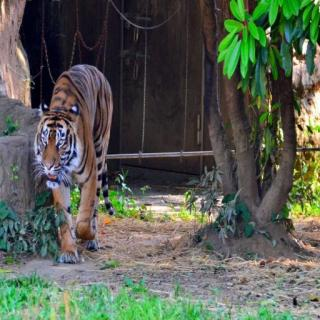Tiger: (29, 56, 120, 266)
